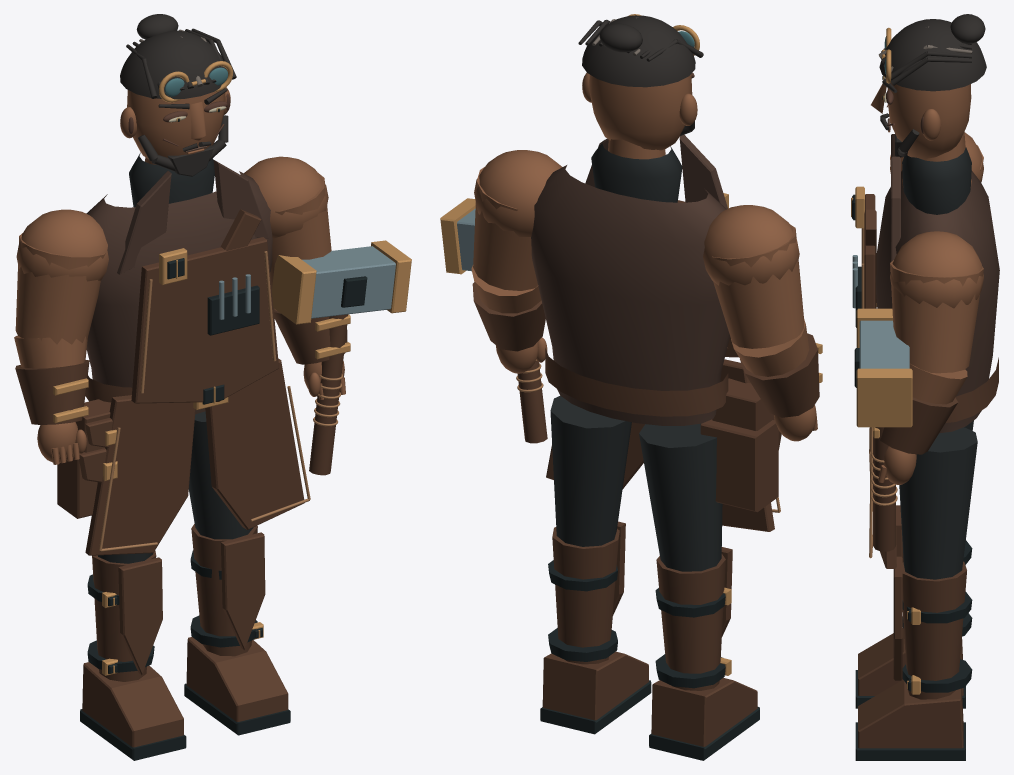
The model's file is smith.glb.
3 renders of one model, left to right at view 1: azimuth 30°, elevation 25°; view 2: azimuth 150°, elevation 25°; view 3: azimuth 270°, elevation 25°, orthographic. The views are drawn at different scales.
Visible parts, largest first — view 1: body, forge-apron, legR, armL, legL, head, forging-hammer, armR, leather-pouch (×2), hand (×2); view 2: body, legL, legR, armL, head, armR, leather-pouch (×2), forging-hammer, hand (×2); view 3: legR, body, armR, head, forging-hammer, legL, forge-apron, hand, armL.
Part boxes in pixels (left/top/right/bottom): body: left=85, top=152, right=310, bottom=555; forge-apron: left=131, top=237, right=278, bottom=403; legR: left=184, top=411, right=290, bottom=735; armL: left=14, top=209, right=108, bottom=424; legL: left=80, top=550, right=186, bottom=760; head: left=120, top=14, right=236, bottom=176; forging-hammer: left=272, top=240, right=411, bottom=475; armR: left=244, top=156, right=350, bottom=364; leather-pouch (×2): left=57, top=399, right=117, bottom=518; hand (×2): left=37, top=361, right=345, bottom=464; body: left=531, top=134, right=780, bottom=531; legL: left=639, top=423, right=759, bottom=760; legR: left=540, top=395, right=651, bottom=734; armL: left=703, top=205, right=822, bottom=417; head: left=578, top=14, right=703, bottom=150; armR: left=471, top=150, right=562, bottom=351; leather-pouch (×2): left=700, top=378, right=781, bottom=512; forging-hammer: left=440, top=198, right=547, bottom=443; hand (×2): left=496, top=337, right=817, bottom=441; legR: left=855, top=427, right=977, bottom=760; body: left=851, top=131, right=999, bottom=568; armR: left=873, top=231, right=983, bottom=454; head: left=871, top=14, right=986, bottom=159; forging-hammer: left=854, top=308, right=912, bottom=551; legL: left=855, top=420, right=973, bottom=708; forge-apron: left=852, top=194, right=875, bottom=327; hand: left=878, top=446, right=916, bottom=484; armL: left=876, top=132, right=983, bottom=306.
Bounding box in the file's own units: 1.17 × 2.11 × 0.4047.
